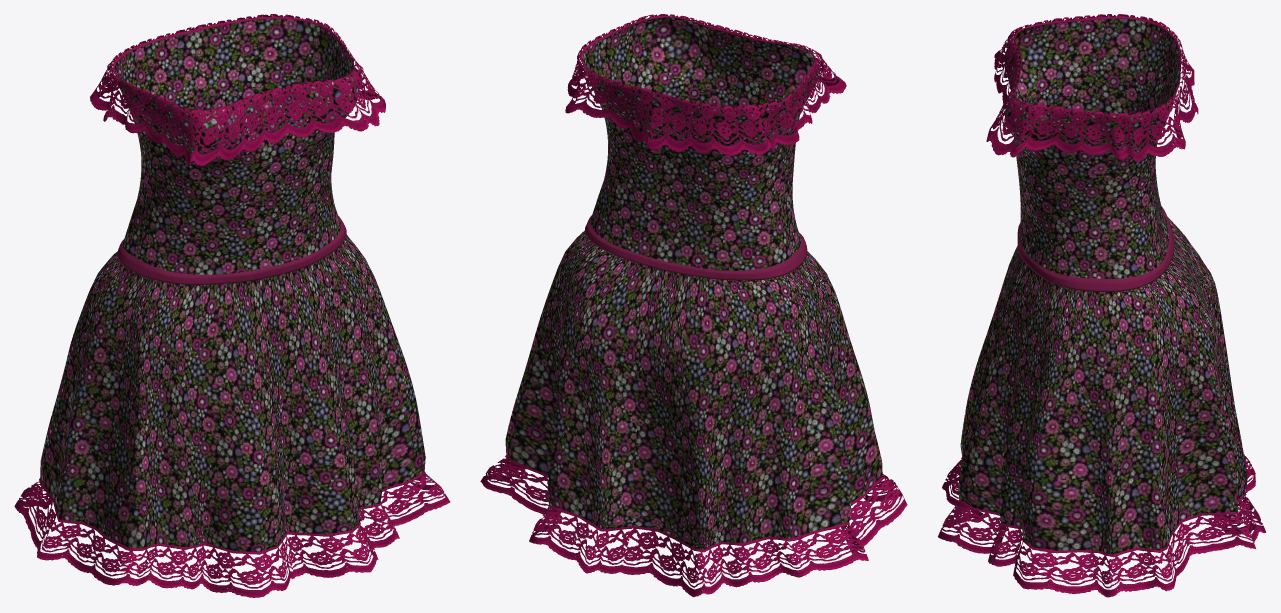
File: toigo-strapless-ruffle-top-dress.glb
3 renders of one model, left to right at view 1: azimuth 30°, elevation 25°; view 2: azimuth 150°, elevation 25°; view 3: azimuth 270°, elevation 25°, orthographic. The views are drawn at different scales.
Visible parts, largest first — view 1: strapless ruffle top dress; view 2: strapless ruffle top dress; view 3: strapless ruffle top dress.
Boxes of the visible parts, x1,y1,x2,y2 form: strapless ruffle top dress: [14, 14, 450, 597]; strapless ruffle top dress: [480, 14, 907, 596]; strapless ruffle top dress: [938, 14, 1265, 597].
Size of the model in its own units: 53.91 by 66.05 by 42.
Materials: 1 (1 with a texture image).
